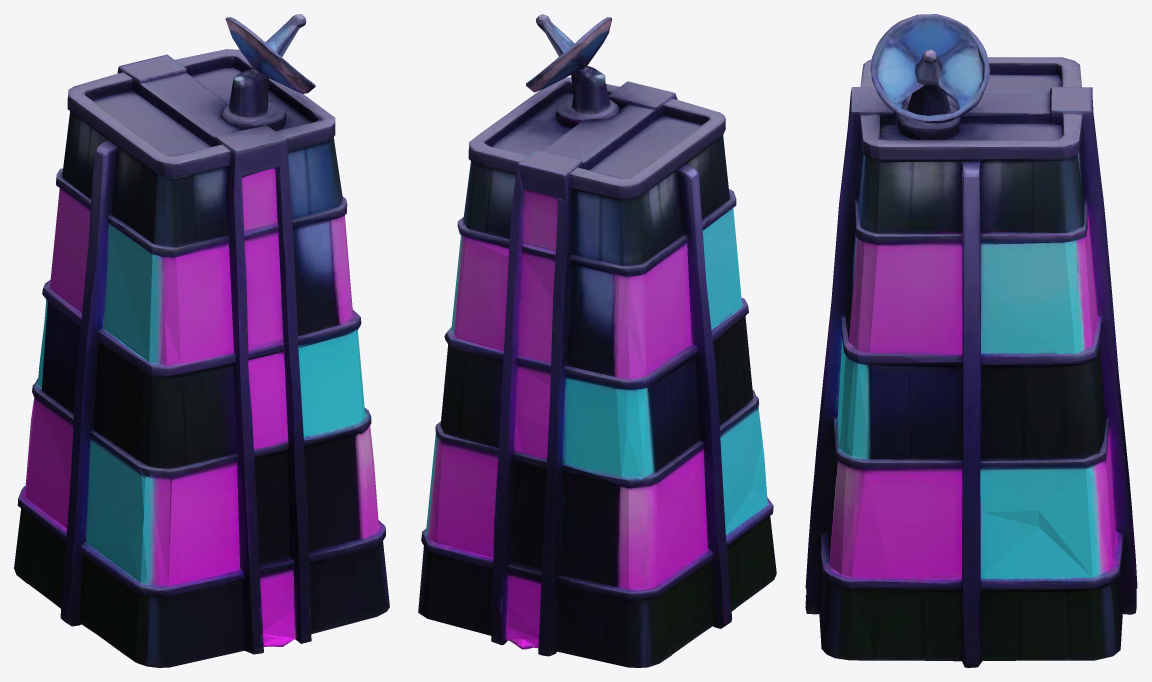
Rendered from b-studio.glb.
3 views of the same model, side by side, from view 1: azimuth 30°, elevation 25°; view 2: azimuth 150°, elevation 25°; view 3: azimuth 270°, elevation 25° (orthographic). The views are drawn at different scales.
Visible parts, largest first — view 1: geometry_0; view 2: geometry_0; view 3: geometry_0.
Part boxes in pixels (x1,y1,x2,y2): geometry_0: (14,14,389,667); geometry_0: (418,14,776,667); geometry_0: (805,14,1137,667).
Bounding box in the file's own units: 0.5022 × 0.9984 × 0.505.
1 material, 1 textured.
